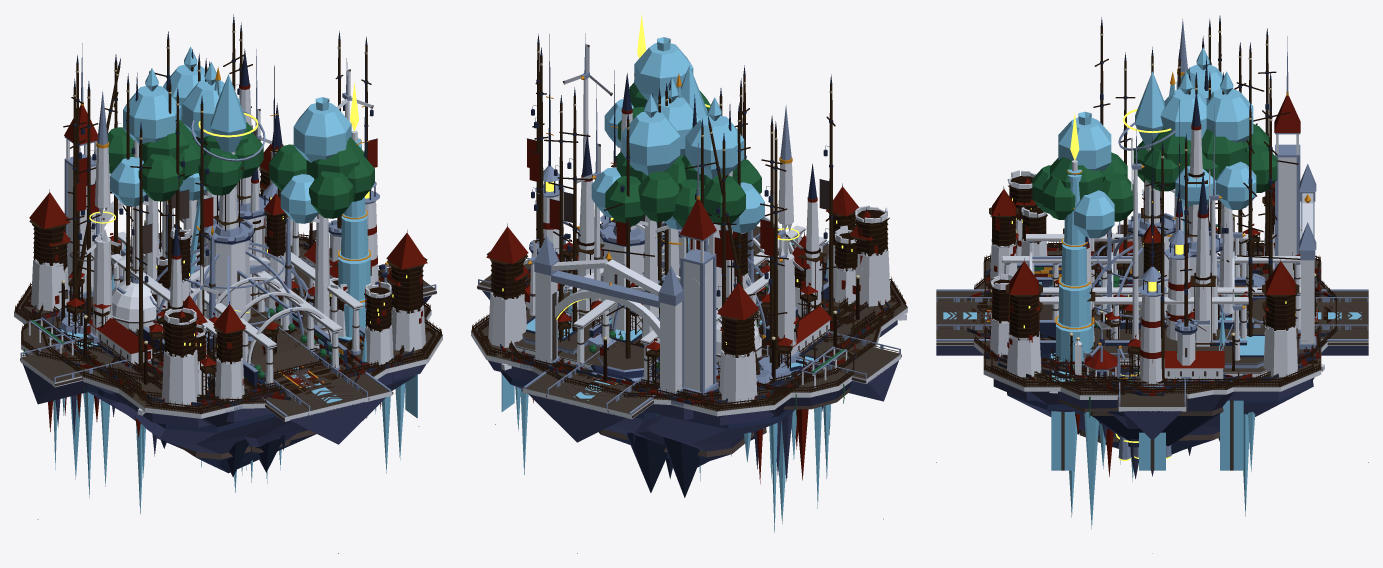
Rendered from sky_citadel_siege_structure.fbx.
3 renders of one model, left to right at view 1: azimuth 30°, elevation 25°; view 2: azimuth 150°, elevation 25°; view 3: azimuth 270°, elevation 25°, orthographic. The views are drawn at different scales.
Visible parts, largest first — view 1: chunk_spire_court__siege, chunk_sky_tree_grove__siege, chunk_boss_clearing__siege, chunk_aether_springs__siege, chunk_archive__siege, chunk_spire_court_b__siege, chunk_path_colonnade__siege, chunk_parade_ground__siege, chunk_garden_terrace__siege, chunk_side_garden__siege, chunk_path_straight__siege, chunk_path_bend__siege (+19 smaller); view 2: chunk_spire_court__siege, chunk_garden_terrace__siege, chunk_sky_tree_grove__siege, chunk_archive__siege, chunk_boss_clearing__siege, chunk_parade_ground__siege, chunk_path_colonnade__siege, chunk_aether_springs__siege, chunk_spire_court_b__siege, chunk_armory__siege, chunk_path_shattered__siege, chunk_path_long_span__siege (+14 smaller); view 3: chunk_spire_court__siege, chunk_aether_springs__siege, chunk_garden_terrace__siege, chunk_sky_tree_grove__siege, chunk_boss_clearing__siege, chunk_archive__siege, chunk_armory__siege, chunk_spire_court_b__siege, chunk_side_garden__siege, chunk_crossroads__siege, chunk_parade_ground__siege, chunk_path_colonnade__siege (+16 smaller).
Part boxes in pixels (box(x1,y1,x2,y2)): chunk_spire_court__siege: box(14, 22, 442, 473); chunk_sky_tree_grove__siege: box(65, 68, 397, 475); chunk_boss_clearing__siege: box(37, 31, 406, 444); chunk_aether_springs__siege: box(20, 82, 419, 553); chunk_archive__siege: box(64, 43, 404, 422); chunk_spire_court_b__siege: box(52, 58, 404, 472); chunk_path_colonnade__siege: box(37, 78, 362, 479); chunk_parade_ground__siege: box(20, 14, 436, 427); chunk_garden_terrace__siege: box(21, 46, 431, 498); chunk_side_garden__siege: box(179, 62, 356, 393); chunk_path_straight__siege: box(164, 95, 362, 402); chunk_path_bend__siege: box(204, 151, 435, 492); chunk_spire_court__siege: box(471, 87, 907, 466); chunk_garden_terrace__siege: box(559, 93, 855, 508); chunk_sky_tree_grove__siege: box(511, 37, 855, 419); chunk_archive__siege: box(519, 143, 850, 435); chunk_boss_clearing__siege: box(509, 110, 884, 416); chunk_parade_ground__siege: box(477, 95, 901, 425); chunk_path_colonnade__siege: box(554, 121, 823, 523); chunk_aether_springs__siege: box(495, 15, 901, 553); chunk_spire_court_b__siege: box(510, 33, 869, 492); chunk_armory__siege: box(525, 133, 867, 497); chunk_path_shattered__siege: box(554, 105, 817, 386); chunk_path_long_span__siege: box(515, 74, 863, 478); chunk_spire_court__siege: box(983, 42, 1368, 454); chunk_aether_springs__siege: box(936, 113, 1368, 553); chunk_garden_terrace__siege: box(983, 71, 1322, 529); chunk_sky_tree_grove__siege: box(990, 47, 1314, 368); chunk_boss_clearing__siege: box(936, 72, 1337, 399); chunk_archive__siege: box(936, 36, 1368, 365); chunk_armory__siege: box(936, 28, 1368, 446); chunk_spire_court_b__siege: box(983, 125, 1321, 439); chunk_side_garden__siege: box(956, 71, 1220, 328); chunk_crossroads__siege: box(939, 71, 1368, 440); chunk_parade_ground__siege: box(941, 104, 1368, 400); chunk_path_colonnade__siege: box(953, 15, 1367, 351).
Bounding box in the file's own units: 256 × 256 × 256.
